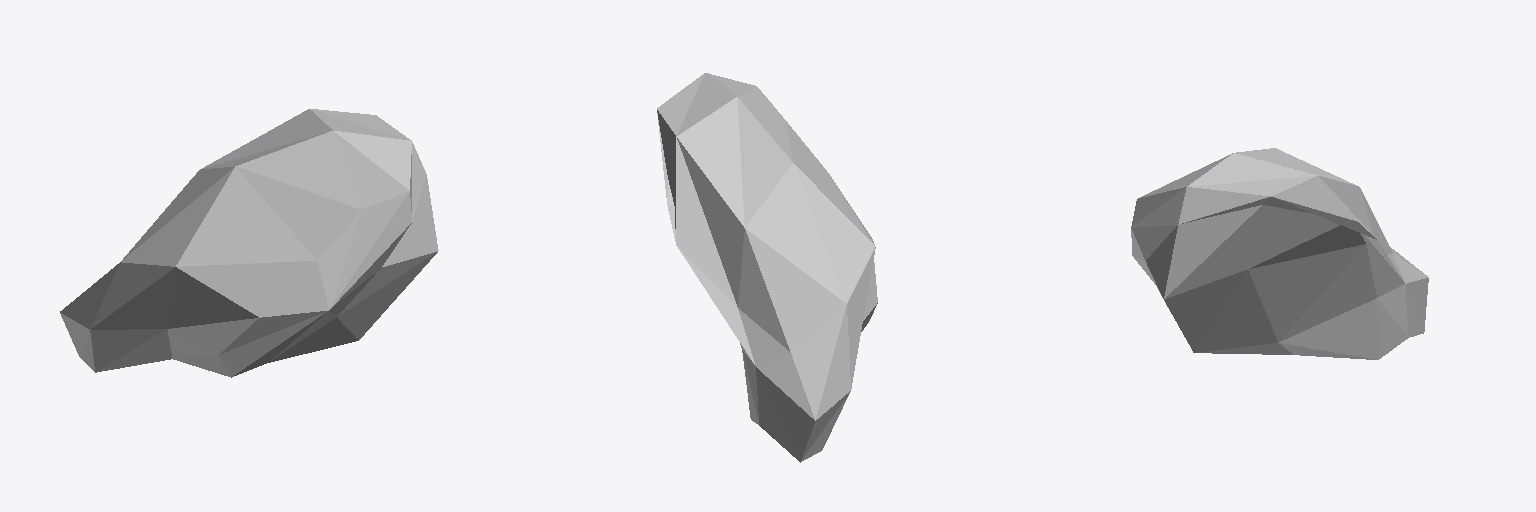
The model's file is asteroid3.obj.
3 views of the same model, side by side, from view 1: azimuth 30°, elevation 25°; view 2: azimuth 150°, elevation 25°; view 3: azimuth 270°, elevation 25° (orthographic).
Visible parts, largest first — view 1: Sphere001.005; view 2: Sphere001.005; view 3: Sphere001.005.
Part boxes in pixels (bbox=[...]): Sphere001.005: bbox=[60, 109, 438, 377]; Sphere001.005: bbox=[657, 73, 877, 462]; Sphere001.005: bbox=[1131, 148, 1428, 359].
Size of the model in its own units: 0.4706 by 0.4674 by 0.4875.